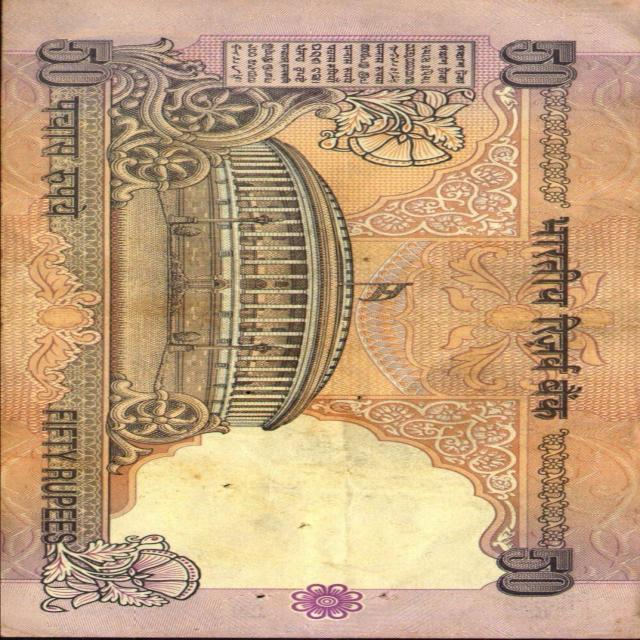50IndianRupees: (2, 3, 634, 639)
